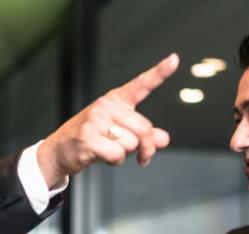up: (59, 51, 188, 173)
